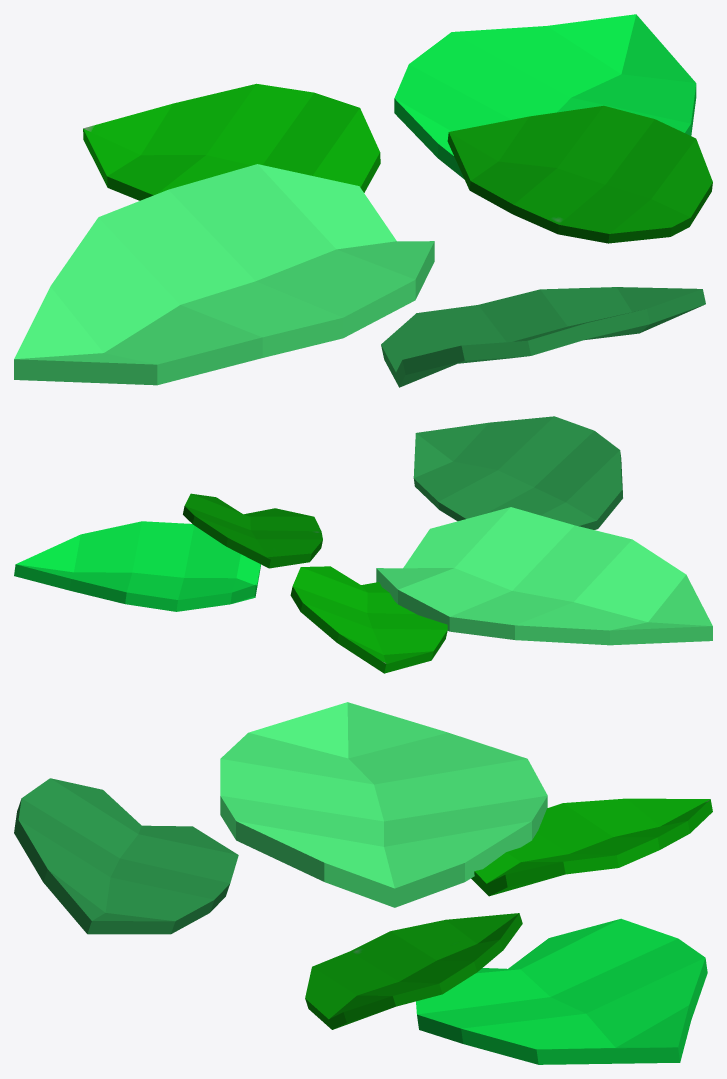
Rendered from leafss.fbx.
3 renders of one model, top to bottom at view 1: azimuth 30°, elevation 25°; view 2: azimuth 150°, elevation 25°; view 3: azimuth 270°, elevation 25°, orthographic. The views are drawn at different scales.
Parts seen in each view (by area): view 1: pCube1, pCube5, pCube4, pCube2, pCube3; view 2: pCube1, pCube3, pCube4, pCube2, pCube5; view 3: pCube1, pCube4, pCube3, pCube5, pCube2.
Part boxes in pixels (bbox=[...]): pCube1: bbox=[14, 164, 434, 385]; pCube5: bbox=[447, 105, 712, 243]; pCube4: bbox=[394, 14, 696, 179]; pCube2: bbox=[83, 83, 380, 200]; pCube3: bbox=[381, 287, 705, 387]; pCube1: bbox=[376, 507, 712, 645]; pCube3: bbox=[413, 416, 622, 529]; pCube4: bbox=[14, 521, 260, 611]; pCube2: bbox=[290, 566, 447, 673]; pCube5: bbox=[183, 493, 322, 568]; pCube1: bbox=[220, 702, 547, 907]; pCube4: bbox=[416, 918, 707, 1064]; pCube3: bbox=[14, 778, 238, 934]; pCube5: bbox=[305, 913, 522, 1029]; pCube2: bbox=[471, 798, 712, 896].
Bounding box in the file's own units: 2.48 × 0.3103 × 2.
